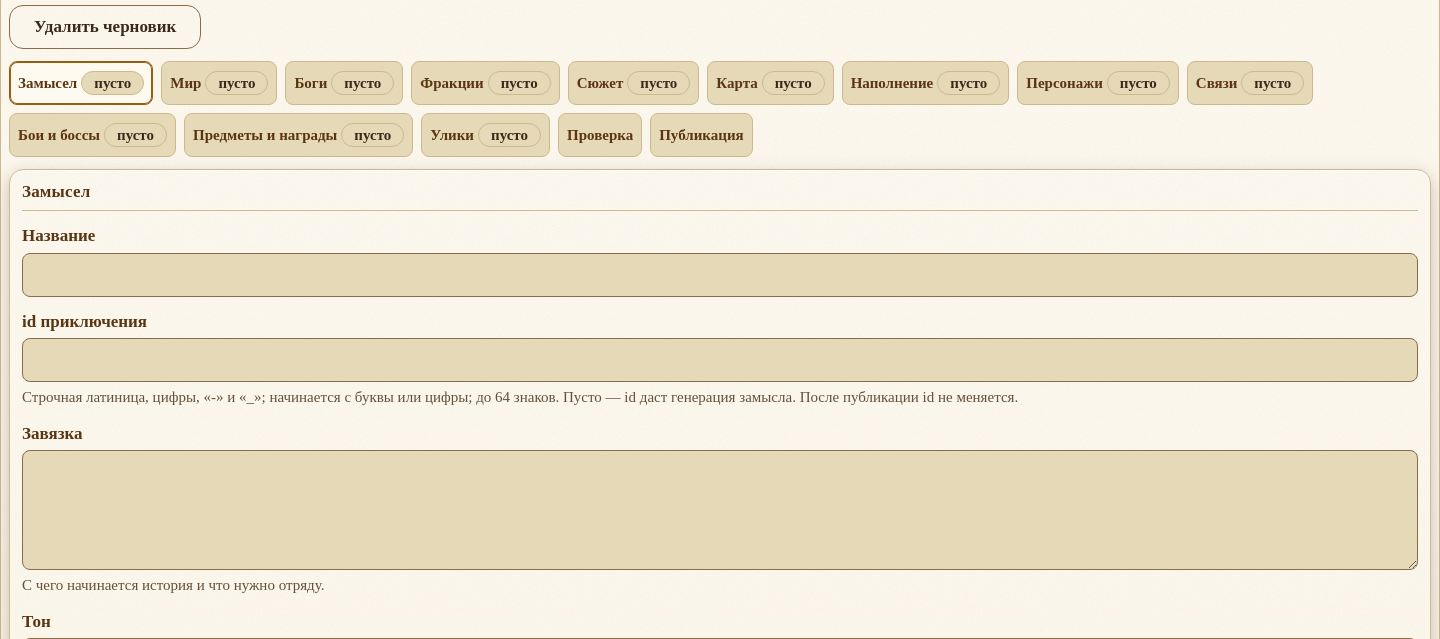
Test: шаг «Карта» › «Куда», старт и финал — локации формы; удалённая локация видна как висящая, а не подменяется
Click the button "Карта пусто". click: (770, 83)
box: [707,61,834,105]
(page scrolled)
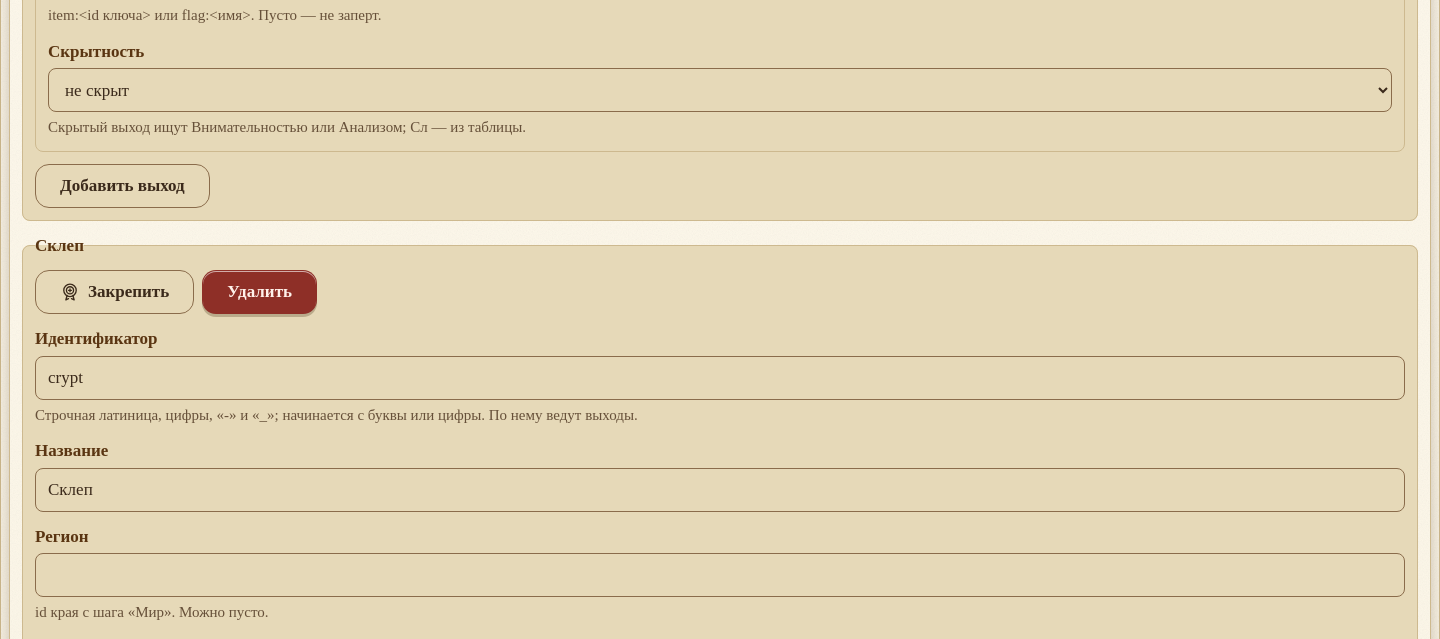
Click the button with aria-label "Удалить: Склеп". click: (260, 292)
box: [202,270,317,314]
(page scrolled)
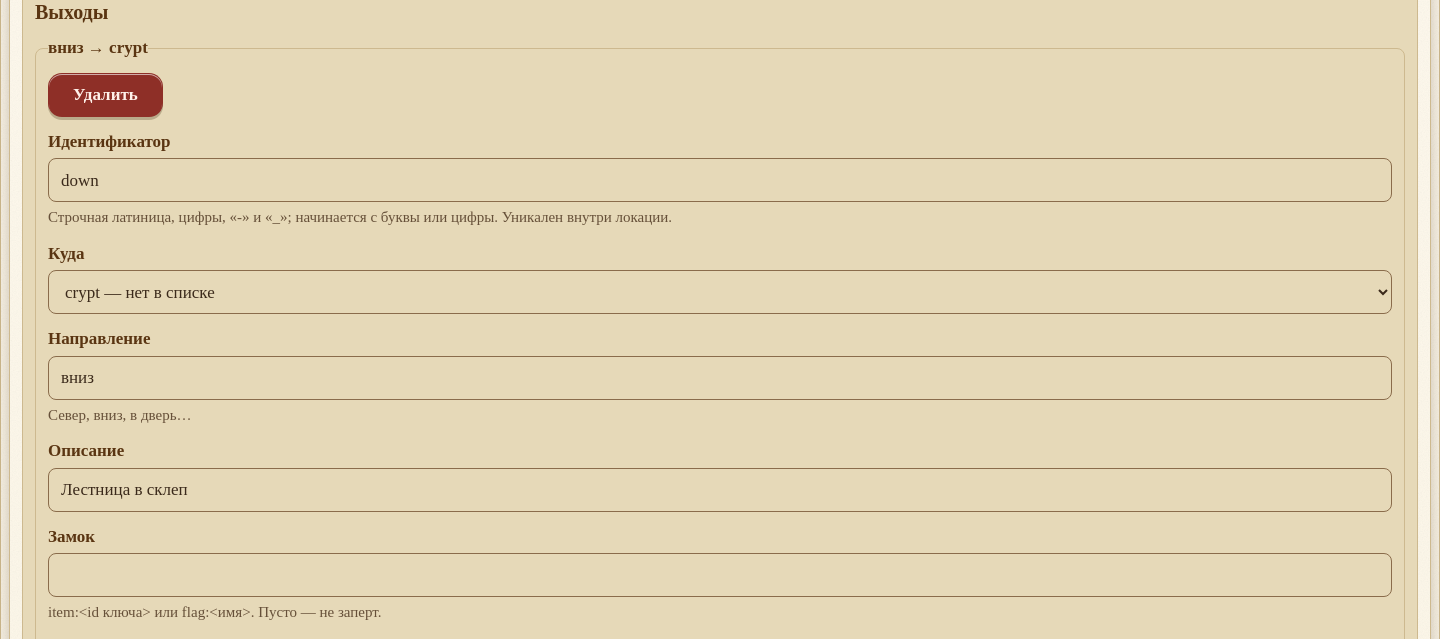
Result: the dropdown labelled "Куда" shows "crypt — нет в списке" at [48,270,1392,314]
